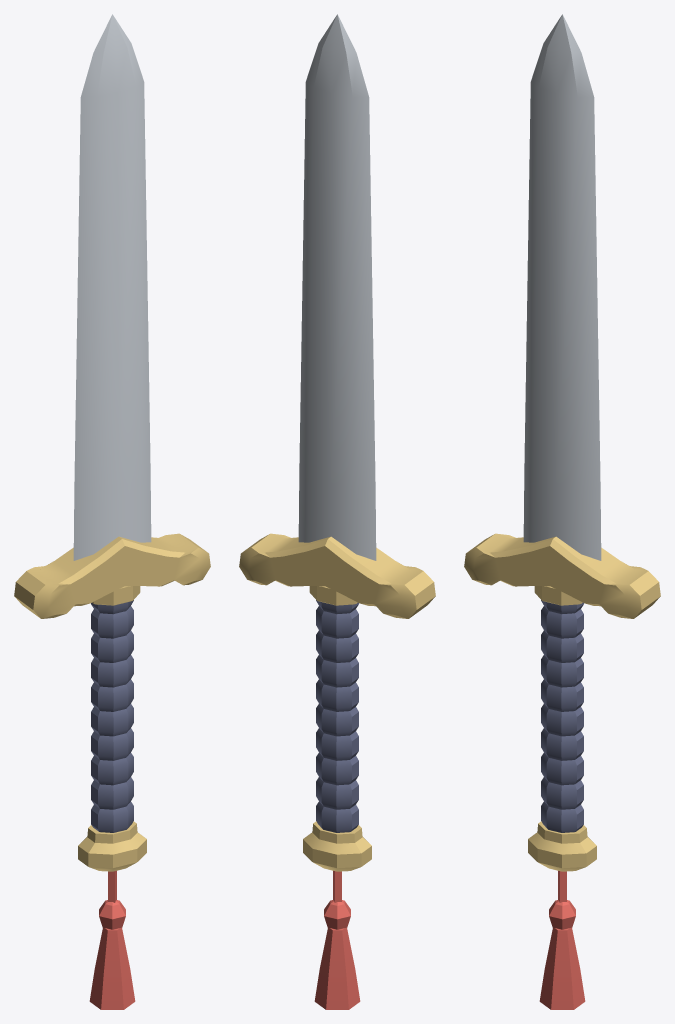
The model's file is Greatsword.fbx.
The picture shows the model from 3 angles, left to right: view 1: azimuth 30°, elevation 25°; view 2: azimuth 150°, elevation 25°; view 3: azimuth 330°, elevation 25°; orthographic projection.
Visible parts, largest first — view 1: GreatswordBlade, GreatswordFittings, GreatswordGrip, GreatswordTassel; view 2: GreatswordBlade, GreatswordFittings, GreatswordGrip, GreatswordTassel; view 3: GreatswordBlade, GreatswordFittings, GreatswordGrip, GreatswordTassel.
Boxes of the visible parts, <box> form: GreatswordBlade: <box>73,14,151,560</box>; GreatswordFittings: <box>14,533,210,871</box>; GreatswordGrip: <box>91,600,133,832</box>; GreatswordTassel: <box>89,871,135,1009</box>; GreatswordBlade: <box>298,14,376,560</box>; GreatswordFittings: <box>239,533,435,871</box>; GreatswordGrip: <box>316,600,358,832</box>; GreatswordTassel: <box>314,871,360,1009</box>; GreatswordBlade: <box>523,14,601,560</box>; GreatswordFittings: <box>464,533,660,871</box>; GreatswordGrip: <box>541,600,583,832</box>; GreatswordTassel: <box>539,871,585,1009</box>.
Bounding box in the file's own units: 1.23 × 6.55 × 0.3049.
